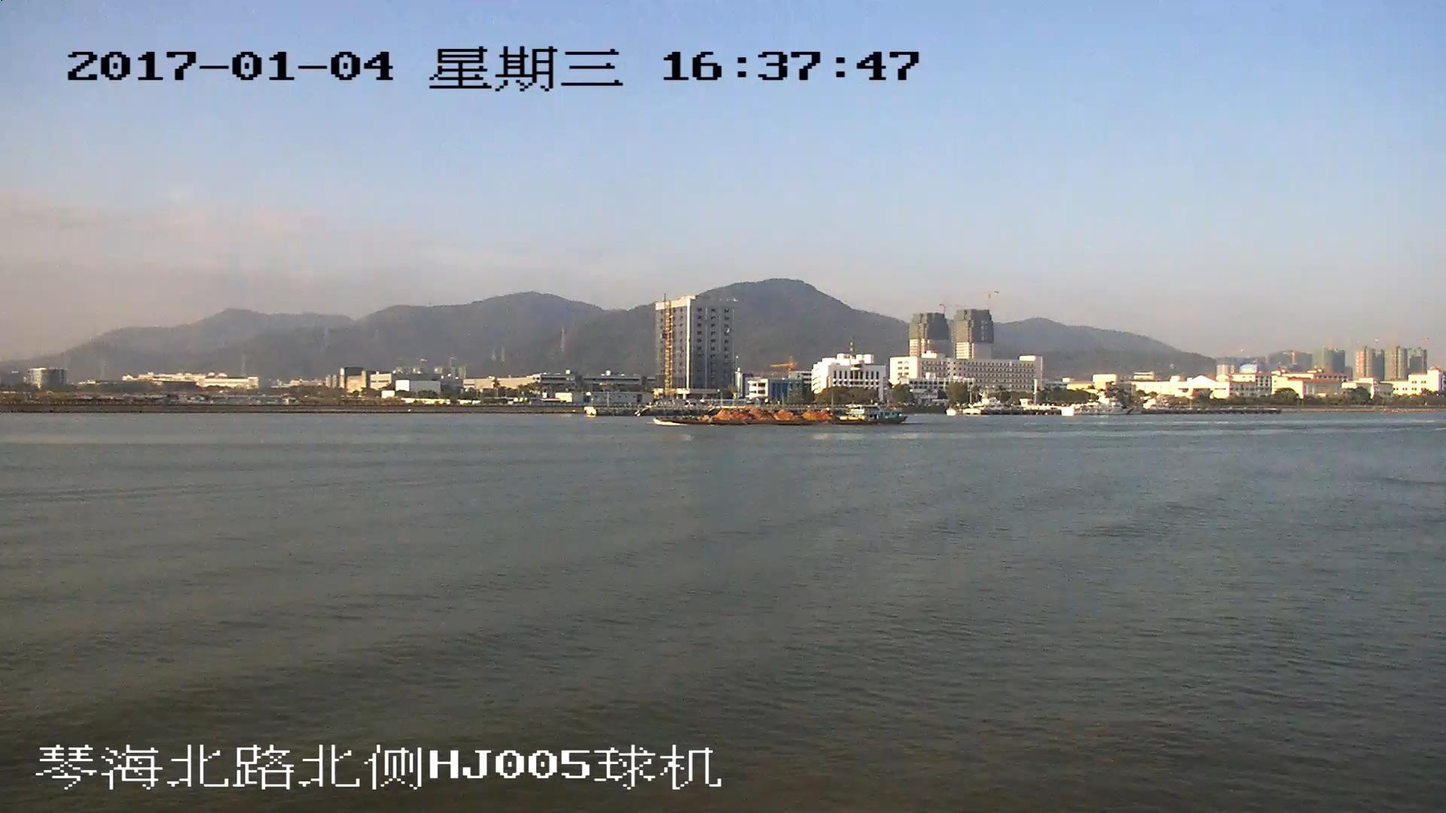ore carrier: (653, 402, 905, 423)
